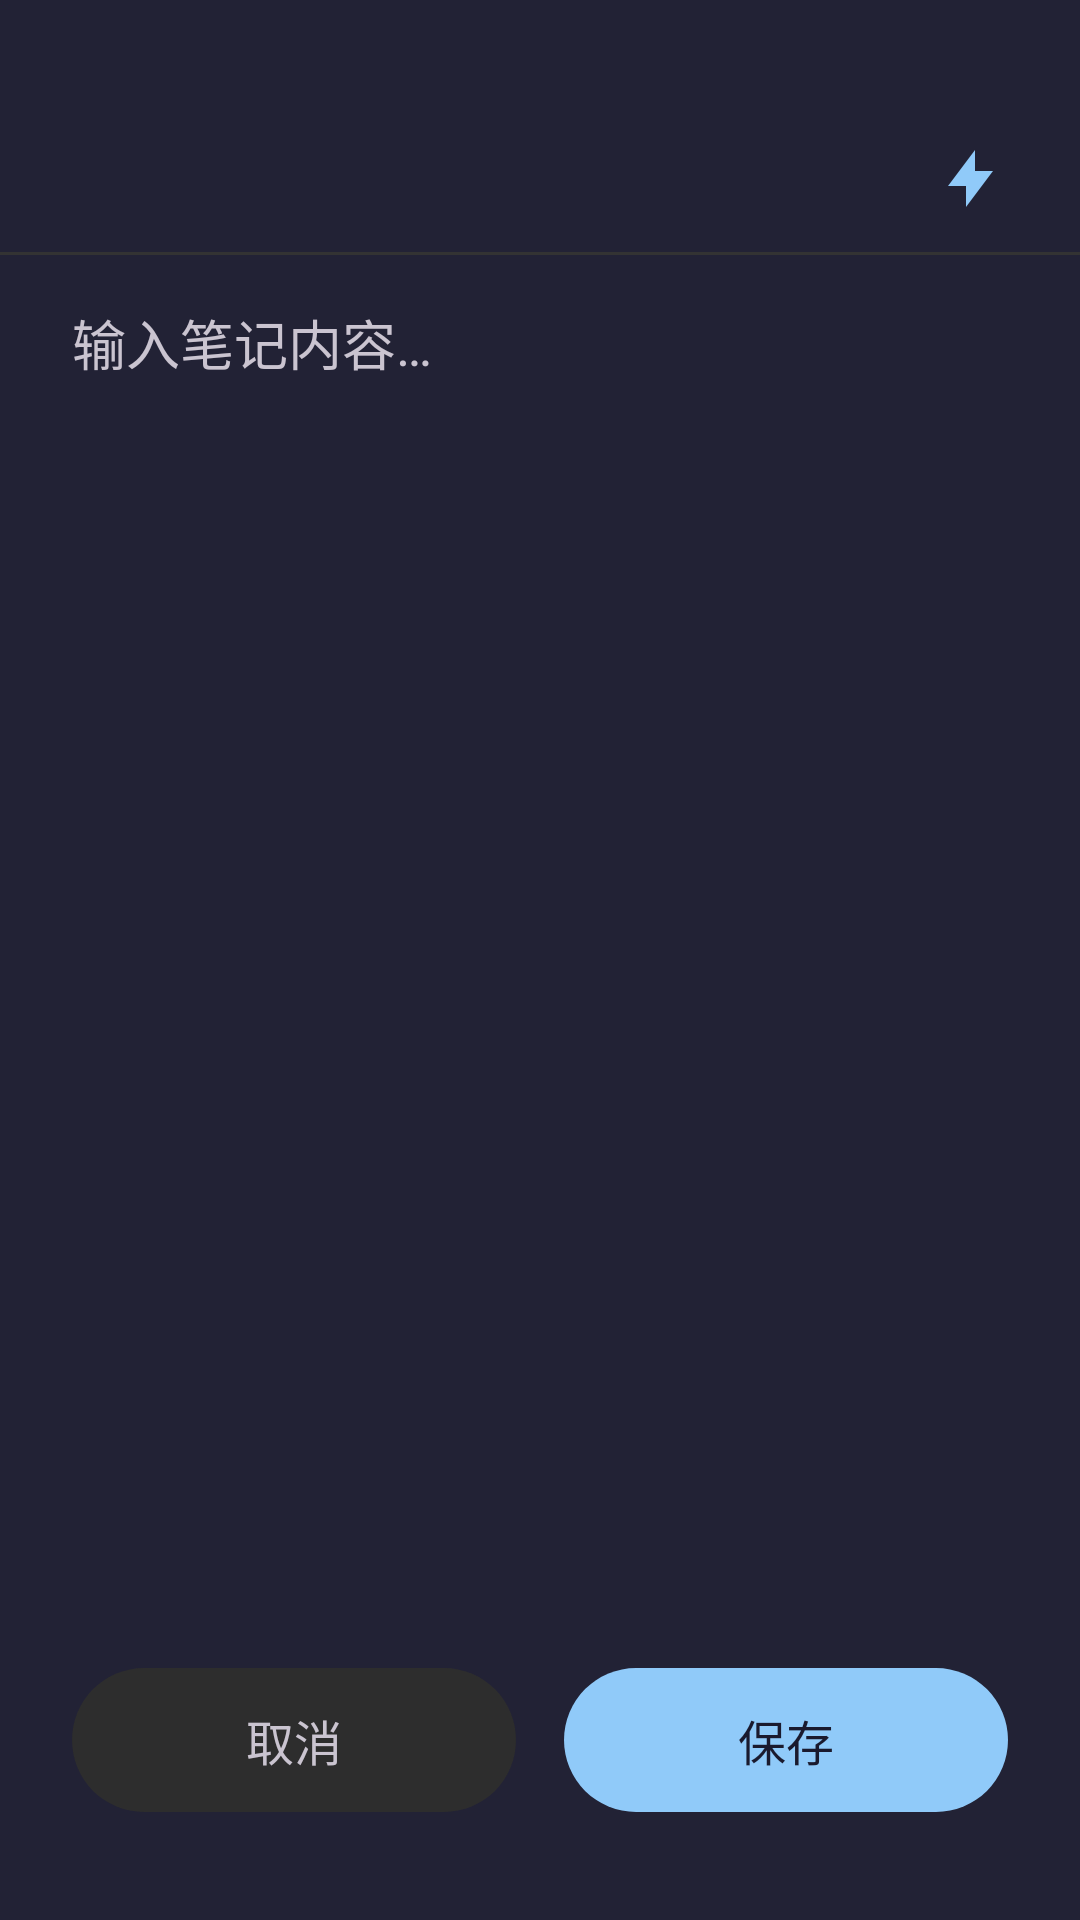

Named icons in this screenshot (1080*1920) and their centers, point (x, y):
lightning: point (970, 178)
